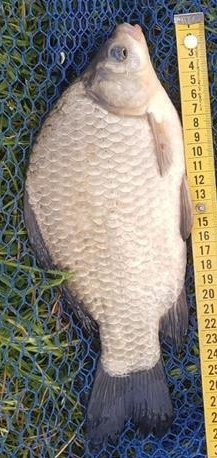Carassius carassius: (20, 20, 197, 438)
